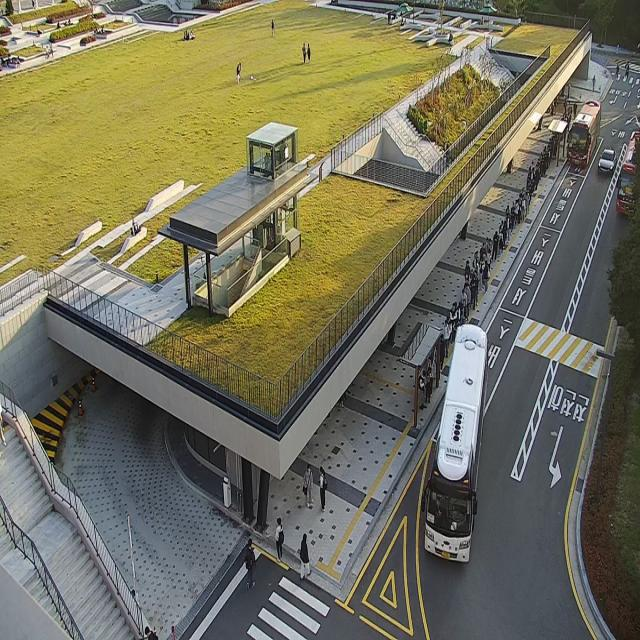queue: (415, 106, 571, 428)
